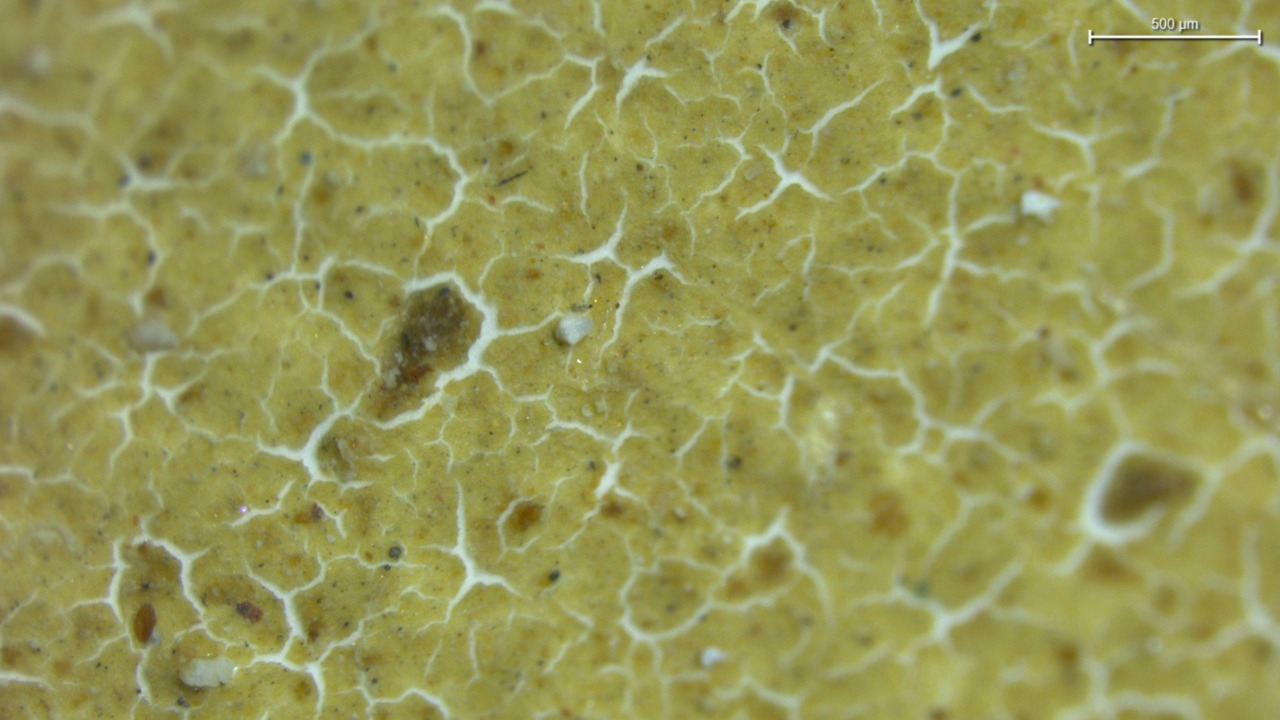microplastic_fragment: (179, 657, 234, 688), (555, 314, 594, 346)
